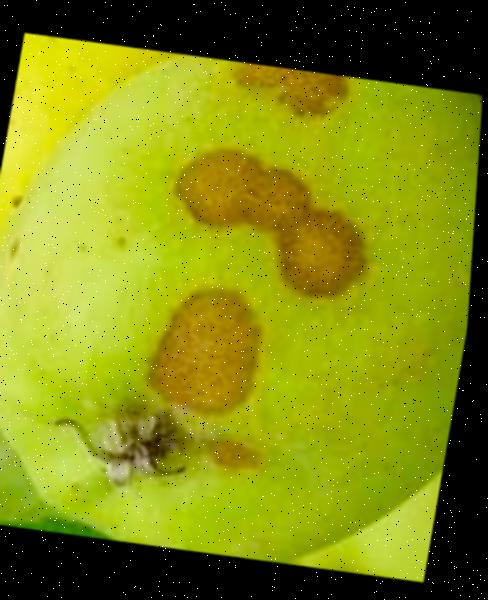SCAB: (0, 32, 486, 574)
